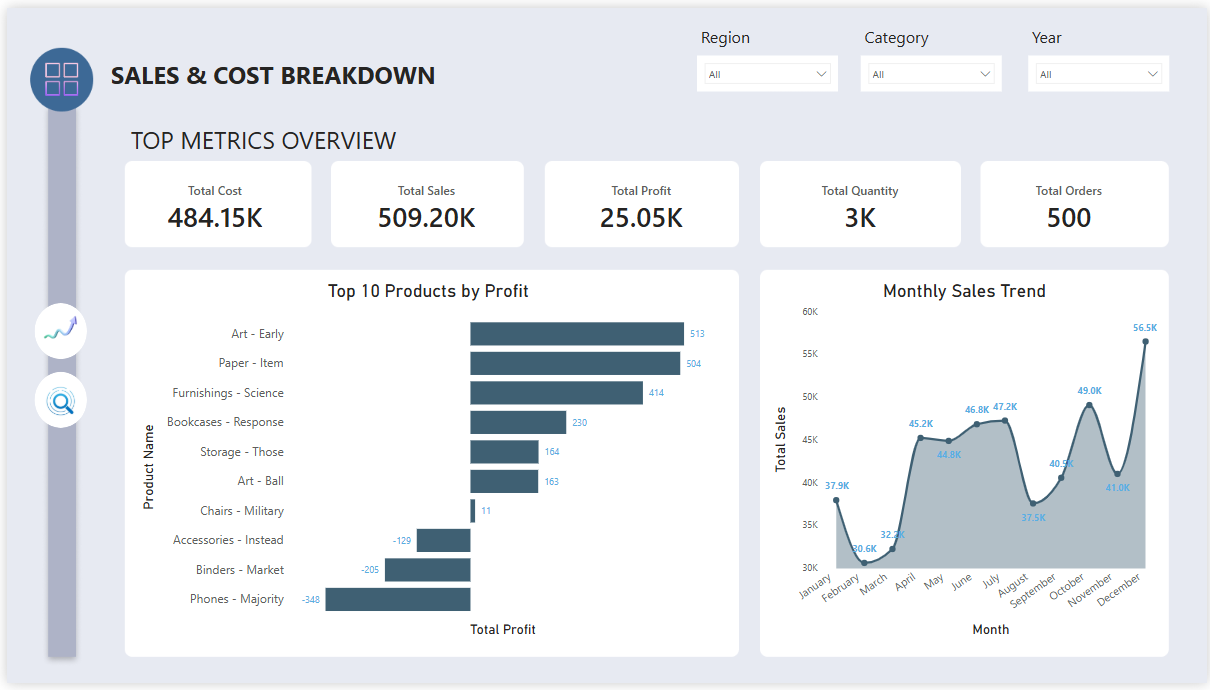

This screenshot's page, from the dashboard's own definition file:
{"tool":"powerbi","page":{"name":"Performance Breakdown","canvas":[1600,900],"ordinal":2},"visuals":[{"type":"textbox","box":[133.3,61.7,470,65],"z":0},{"type":"shape","box":[36.7,393.3,70,75],"z":0,"group":"g1"},{"type":"cardVisual","fields":{"Data":["large_sample_sales_data.Total Cost"]},"box":[173.3,215,208.3,96.7],"z":1000},{"type":"cardVisual","fields":{"Data":["large_sample_sales_data.Total Sales"]},"box":[455,215,208.3,96.7],"z":2000},{"type":"cardVisual","fields":{"Data":["large_sample_sales_data.Total Profit"]},"box":[741.7,215,208.3,96.7],"z":3000},{"type":"cardVisual","fields":{"Data":["large_sample_sales_data.Total Quantity"]},"box":[1033.3,215,208.3,96.7],"z":4000},{"type":"cardVisual","fields":{"Data":["large_sample_sales_data.Total Orders"]},"box":[1311.7,215,208.3,96.7],"z":5000},{"type":"textbox","box":[160,148.3,416.7,66.7],"z":6000},{"type":"barChart","title":"Top 10 Products by Profit","fields":{"Category":["large_sample_sales_data.Product Name"],"Y":["large_sample_sales_data.Total Profit"]},"box":[173.3,363.3,776.7,480],"z":7000},{"type":"lineChart","title":"Monthly Sales Trend","fields":{"Y":["large_sample_sales_data.Total Sales"],"Category":["large_sample_sales_data.Order Date.Variation.Date Hierarchy.Month"]},"box":[1015,363.3,523.3,480],"z":8000},{"type":"slicer","fields":{"Values":["large_sample_sales_data.Order Date.Variation.Date Hierarchy.Year"]},"box":[1361.7,63.3,188.3,48.3],"z":9000},{"type":"slicer","fields":{"Values":["large_sample_sales_data.Product Category"]},"box":[1138.3,63.3,188.3,48.3],"z":10000},{"type":"slicer","fields":{"Values":["large_sample_sales_data.Region"]},"box":[920,63.3,188.3,48.3],"z":11000},{"type":"textbox","box":[920,18.3,140,45],"z":12000},{"type":"textbox","box":[1138.3,18.3,140,45],"z":13000},{"type":"textbox","box":[1361.7,18.3,95,45],"z":14000},{"type":"group","id":"g1","title":"Group 1","box":[36.7,393.3,70,75],"z":15000},{"type":"shape","box":[36.7,485,70,75],"z":16000},{"type":"image","box":[18.3,475,106.7,98.3],"z":17000},{"type":"image","box":[26.7,386.7,88.3,88.3],"z":17001},{"type":"actionButton","box":[33.3,393.3,81.7,75],"z":17002},{"type":"actionButton","box":[36.7,486.7,81.7,75],"z":17003}]}

Visuals, with their boxes in screenshot pixels (x1, y1, x2, y2), scaled from the page's 1600x900 canvas onto the 1210x690 screenshot:
textbox: bbox=(101, 47, 456, 97)
shape: bbox=(28, 302, 81, 359)
cardVisual - large_sample_sales_data.Total Cost: bbox=(131, 165, 289, 239)
cardVisual - large_sample_sales_data.Total Sales: bbox=(344, 165, 502, 239)
cardVisual - large_sample_sales_data.Total Profit: bbox=(561, 165, 718, 239)
cardVisual - large_sample_sales_data.Total Quantity: bbox=(781, 165, 939, 239)
cardVisual - large_sample_sales_data.Total Orders: bbox=(992, 165, 1150, 239)
textbox: bbox=(121, 114, 436, 165)
"Top 10 Products by Profit" barChart: bbox=(131, 279, 718, 647)
"Monthly Sales Trend" lineChart: bbox=(768, 279, 1163, 647)
slicer - large_sample_sales_data.Order Date.Variation.Date Hierarchy.Year: bbox=(1030, 49, 1172, 86)
slicer - large_sample_sales_data.Product Category: bbox=(861, 49, 1003, 86)
slicer - large_sample_sales_data.Region: bbox=(696, 49, 838, 86)
textbox: bbox=(696, 14, 802, 49)
textbox: bbox=(861, 14, 967, 49)
textbox: bbox=(1030, 14, 1102, 49)
"Group 1" group: bbox=(28, 302, 81, 359)
shape: bbox=(28, 372, 81, 429)
image: bbox=(14, 364, 95, 440)
image: bbox=(20, 296, 87, 364)
actionButton: bbox=(25, 302, 87, 359)
actionButton: bbox=(28, 373, 90, 431)
